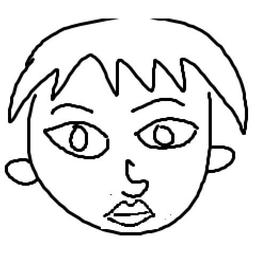cupid_mouth: (102, 198, 159, 228)
ear: (205, 140, 244, 182), (3, 154, 42, 191)
eye: (41, 118, 112, 162), (128, 115, 202, 153)
eyebrow: (48, 101, 97, 117)
frowning_eyebrow: (126, 92, 189, 115)
nose: (109, 153, 156, 199)
